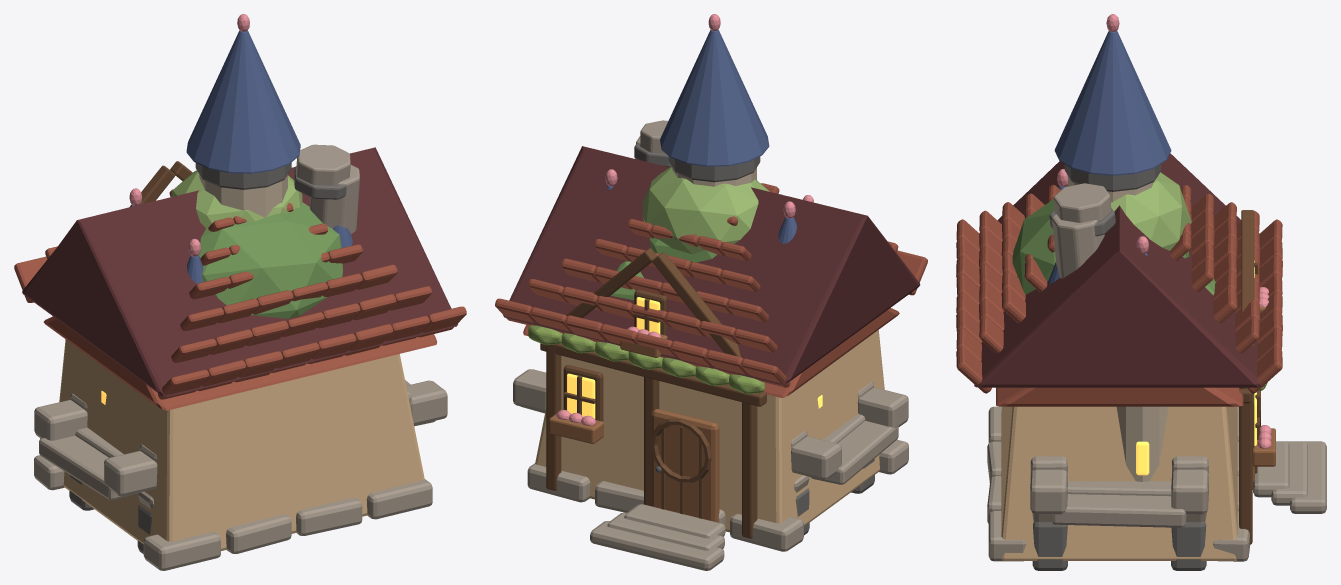
File: pinebarrow_hero.glb
The picture shows the model from 3 angles, left to right: view 1: azimuth 30°, elevation 25°; view 2: azimuth 150°, elevation 25°; view 3: azimuth 270°, elevation 25°; orthographic projection. The views are drawn at different scales.
Visible parts, largest first — view 1: HeroCottage_Wall_Warm, HeroCottage_Roof_Shadow, HeroCottage_Roof_Terracotta, HeroCottage_Stone_Warm, HillCastle_Castle_Blue, StorybookTree_Leaf_Mid, StoneBridge_Stone_Warm, VillageSmithy_Roof_Terracotta, StorybookTree_Leaf_Light, HillCastle_Castle_Stone, HillCastle_Stone_Dark, HeroCottage_Timber_Dark (+3 smaller); view 2: HeroCottage_Roof_Shadow, HeroCottage_Wall_Warm, HeroCottage_Roof_Terracotta, HeroCottage_Timber_Dark, HeroCottage_Stone_Warm, HillCastle_Castle_Blue, StoneBridge_Stone_Warm, HeroCottage_Timber_Mid, StorybookTree_Leaf_Light, HeroCottage_Moss, VillageSmithy_Roof_Terracotta, HillCastle_Stone_Dark (+4 smaller); view 3: HeroCottage_Roof_Shadow, HeroCottage_Wall_Warm, HeroCottage_Roof_Terracotta, HeroCottage_Stone_Warm, HillCastle_Castle_Blue, StoneBridge_Stone_Warm, VillageSmithy_Roof_Terracotta, HeroCottage_Timber_Dark, StorybookTree_Leaf_Light, StoneBridge_Stone_Dark, HillCastle_Castle_Stone, StorybookTree_Leaf_Mid (+5 smaller).
Boxes of the visible parts, left/top/right/bottom form: HeroCottage_Wall_Warm: left=59, top=339, right=424, bottom=550; HeroCottage_Roof_Shadow: left=22, top=147, right=457, bottom=397; HeroCottage_Roof_Terracotta: left=14, top=189, right=466, bottom=399; HeroCottage_Stone_Warm: left=34, top=144, right=432, bottom=570; HillCastle_Castle_Blue: left=131, top=30, right=352, bottom=283; StorybookTree_Leaf_Mid: left=199, top=202, right=342, bottom=318; StoneBridge_Stone_Warm: left=34, top=380, right=447, bottom=509; VillageSmithy_Roof_Terracotta: left=43, top=316, right=436, bottom=410; StorybookTree_Leaf_Light: left=171, top=170, right=302, bottom=228; HillCastle_Castle_Stone: left=199, top=174, right=287, bottom=217; HillCastle_Stone_Dark: left=195, top=162, right=291, bottom=189; HeroCottage_Timber_Dark: left=52, top=161, right=192, bottom=316; HeroCottage_Roof_Shadow: left=503, top=146, right=920, bottom=384; HeroCottage_Wall_Warm: left=535, top=330, right=884, bottom=532; HeroCottage_Roof_Terracotta: left=495, top=183, right=927, bottom=387; HeroCottage_Timber_Dark: left=540, top=248, right=766, bottom=538; HeroCottage_Stone_Warm: left=527, top=120, right=908, bottom=570; HillCastle_Castle_Blue: left=607, top=30, right=796, bottom=243; StoneBridge_Stone_Warm: left=513, top=369, right=908, bottom=492; HeroCottage_Timber_Mid: left=549, top=334, right=719, bottom=522; StorybookTree_Leaf_Light: left=642, top=166, right=769, bottom=254; HeroCottage_Moss: left=528, top=325, right=764, bottom=394; VillageSmithy_Roof_Terracotta: left=523, top=308, right=899, bottom=397; HillCastle_Stone_Dark: left=668, top=156, right=760, bottom=182; HeroCottage_Roof_Shadow: left=974, top=153, right=1264, bottom=387; HeroCottage_Wall_Warm: left=1001, top=406, right=1238, bottom=560; HeroCottage_Roof_Terracotta: left=956, top=184, right=1282, bottom=393; HeroCottage_Stone_Warm: left=987, top=183, right=1326, bottom=561; HillCastle_Castle_Blue: left=1047, top=30, right=1171, bottom=284; StoneBridge_Stone_Warm: left=1030, top=456, right=1208, bottom=527; VillageSmithy_Roof_Terracotta: left=996, top=387, right=1243, bottom=406; HeroCottage_Timber_Dark: left=1239, top=210, right=1260, bottom=544; StorybookTree_Leaf_Light: left=1110, top=172, right=1191, bottom=250; StoneBridge_Stone_Dark: left=1032, top=522, right=1206, bottom=570; HillCastle_Castle_Stone: left=1068, top=176, right=1168, bottom=481; StorybookTree_Leaf_Mid: left=1012, top=199, right=1215, bottom=295.
Size of the model in its own units: 6.03 by 8.28 by 5.62.
